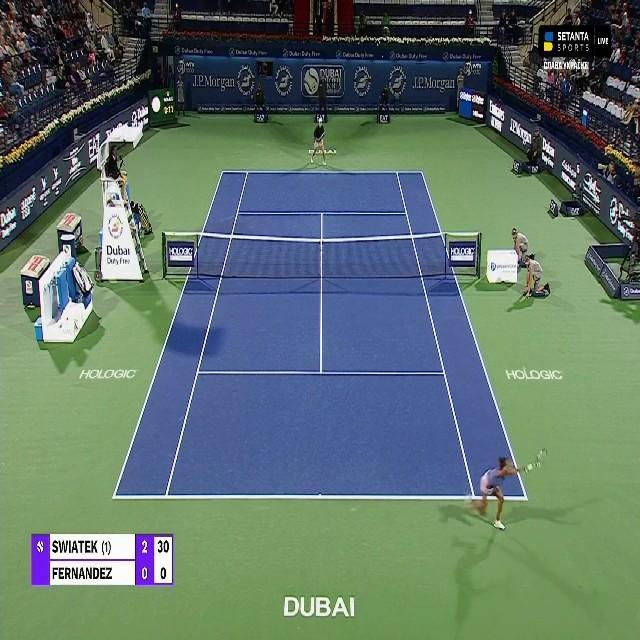left side: (112, 171, 248, 498), (396, 172, 527, 500)
player: (468, 454, 530, 532), (310, 118, 329, 166)
